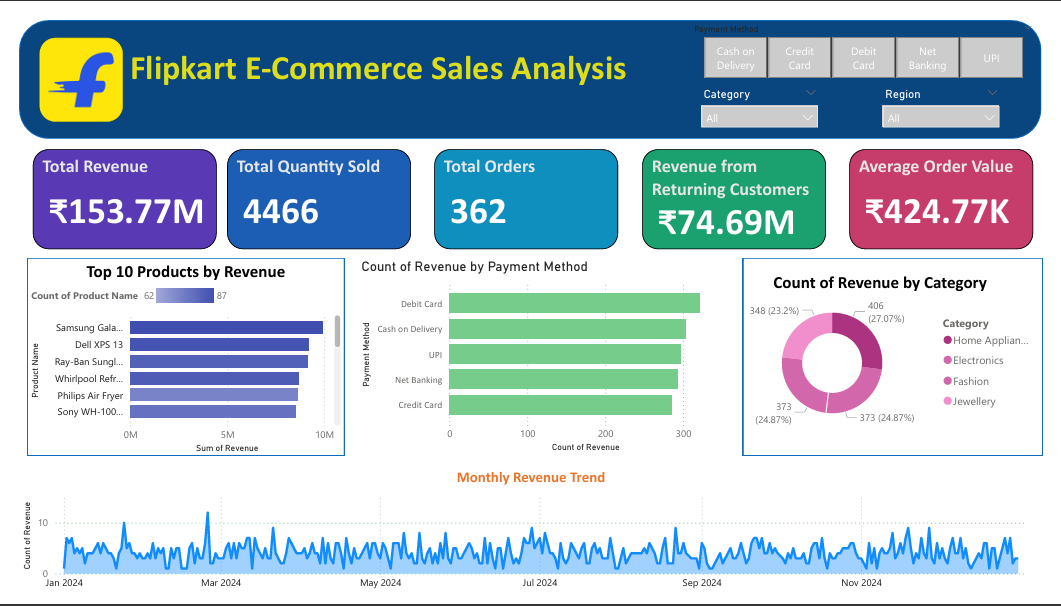

The page's visual inventory and layout, read from the dashboard file:
{"tool":"powerbi","page":{"name":"Main Page","canvas":[1280,720],"ordinal":0},"visuals":[{"type":"shape","box":[0,0,1413.6,148.4],"z":0},{"type":"shape","box":[905.4,297.3,374.6,246.9],"z":1000},{"type":"shape","box":[10.1,297.3,396.4,246.9],"z":2000},{"type":"kpi","title":"Total Revenue","fields":{"TrendLine":["flipkart_sales_data.Order Date.Variation.Date Hierarchy.Year"],"Indicator":["flipkart_sales_data.Total Revenue"]},"box":[16.8,161.3,230.1,124.3],"z":3000},{"type":"kpi","title":"Total Orders","fields":{"Indicator":["flipkart_sales_data.Total Orders"],"TrendLine":["flipkart_sales_data.Order Date.Variation.Date Hierarchy.Year"]},"box":[519.1,161.3,230,124.3],"z":4000},{"type":"kpi","title":"Total Quantity Sold","fields":{"TrendLine":["flipkart_sales_data.Order Date.Variation.Date Hierarchy.Year"],"Indicator":["flipkart_sales_data.Total Quantity Sold"]},"box":[259.5,161.3,230,124.3],"z":5000},{"type":"kpi","title":"Average Order Value","fields":{"TrendLine":["flipkart_sales_data.Order Date.Variation.Date Hierarchy.Year"],"Indicator":["flipkart_sales_data.Average Order Value"]},"box":[1038.1,161.3,230,124.3],"z":6000},{"type":"kpi","title":"Revenue from Returning Customers ","fields":{"Indicator":["flipkart_sales_data.Revenue from Returning Customers"],"TrendLine":["flipkart_sales_data.Order Date.Variation.Date Hierarchy.Year"]},"box":[778.6,161.3,230,124.3],"z":7000},{"type":"barChart","title":"Top 10 Products by Revenue","fields":{"Category":["flipkart_sales_data.Product Name"],"Y":["Sum(flipkart_sales_data.Revenue)"]},"box":[10.1,300.7,396.4,243.6],"z":8000},{"type":"stackedAreaChart","title":"Monthly Revenue Trend","fields":{"Category":["flipkart_sales_data.Order Date"],"Y":["CountNonNull(flipkart_sales_data.Revenue)"]},"box":[0,559.4,1280,161.3],"z":9000},{"type":"donutChart","fields":{"Category":["flipkart_sales_data.Category"],"Y":["CountNonNull(flipkart_sales_data.Revenue)"]},"box":[873.5,314.1,406.5,201.6],"z":10000},{"type":"clusteredBarChart","fields":{"Category":["flipkart_sales_data.Payment Method"],"Y":["CountNonNull(flipkart_sales_data.Revenue)"]},"box":[423.3,297.3,470.3,246.9],"z":11000},{"type":"image","box":[17.2,0,120.3,148.4],"z":12000},{"type":"textbox","box":[132.8,27.6,667.2,63.8],"z":13000},{"type":"slicer","fields":{"Values":["flipkart_sales_data.Payment Method"]},"box":[831,0,448.3,79.3],"z":14000},{"type":"slicer","fields":{"Values":["flipkart_sales_data.Region"]},"box":[1069.7,79.3,166,57.3],"z":15000},{"type":"slicer","fields":{"Values":["flipkart_sales_data.Category"]},"box":[843.4,79.3,166,57.3],"z":16000}]}

Visuals, with their boxes in screenshot pixels (x1, y1, x2, y2), scaled from the page's 1280x720 canvas onto the 1061x606 screenshot:
shape: BBox(0, 0, 1060, 125)
shape: BBox(750, 250, 1060, 458)
shape: BBox(8, 250, 337, 458)
"Total Revenue" kpi: BBox(14, 136, 205, 240)
"Total Orders" kpi: BBox(430, 136, 621, 240)
"Total Quantity Sold" kpi: BBox(215, 136, 406, 240)
"Average Order Value" kpi: BBox(860, 136, 1051, 240)
"Revenue from Returning Customers " kpi: BBox(645, 136, 836, 240)
"Top 10 Products by Revenue" barChart: BBox(8, 253, 337, 458)
"Monthly Revenue Trend" stackedAreaChart: BBox(0, 471, 1060, 605)
donutChart - flipkart_sales_data.Category x CountNonNull(flipkart_sales_data.Revenue): BBox(724, 264, 1060, 434)
clusteredBarChart - flipkart_sales_data.Payment Method x CountNonNull(flipkart_sales_data.Revenue): BBox(351, 250, 741, 458)
image: BBox(14, 0, 114, 125)
textbox: BBox(110, 23, 663, 77)
slicer - flipkart_sales_data.Payment Method: BBox(689, 0, 1060, 67)
slicer - flipkart_sales_data.Region: BBox(887, 67, 1024, 115)
slicer - flipkart_sales_data.Category: BBox(699, 67, 837, 115)
